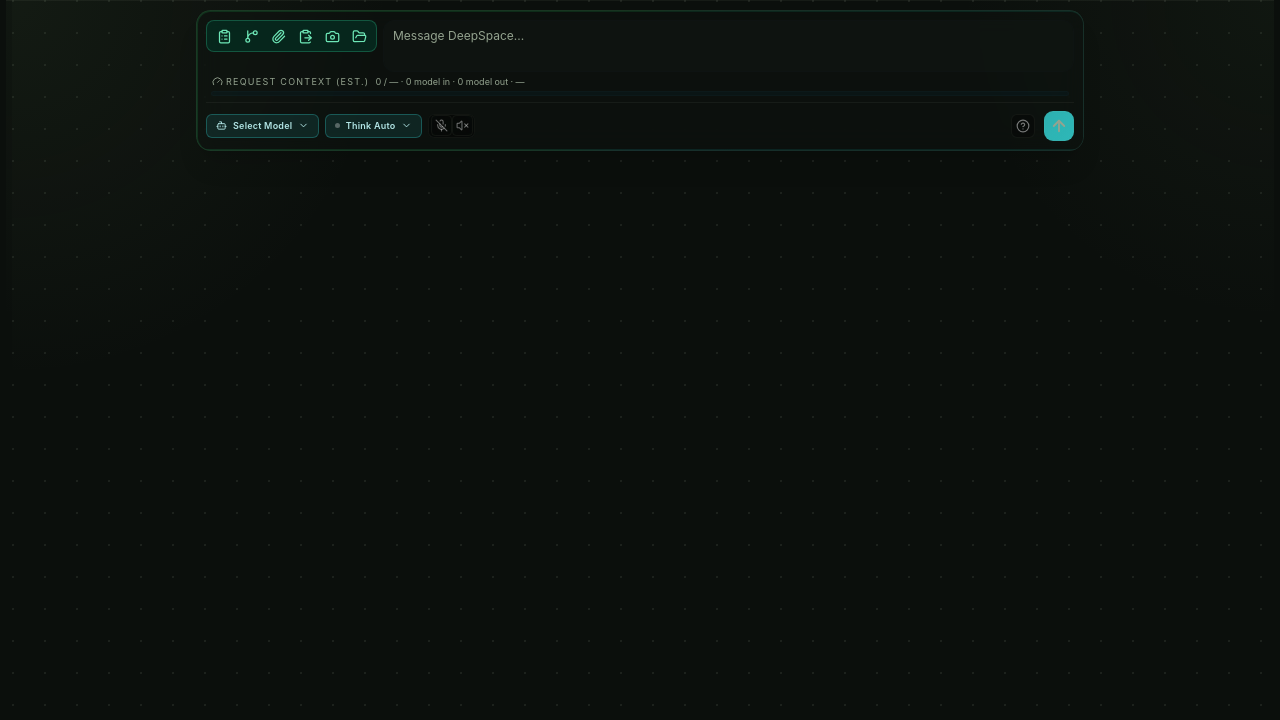
Scenario: DeepSpaceComposer clipboard button › says so when the browser refuses the clipboard
Click the button named "Paste from the clipboard".
click(305, 36)  # box [293,24,317,48]
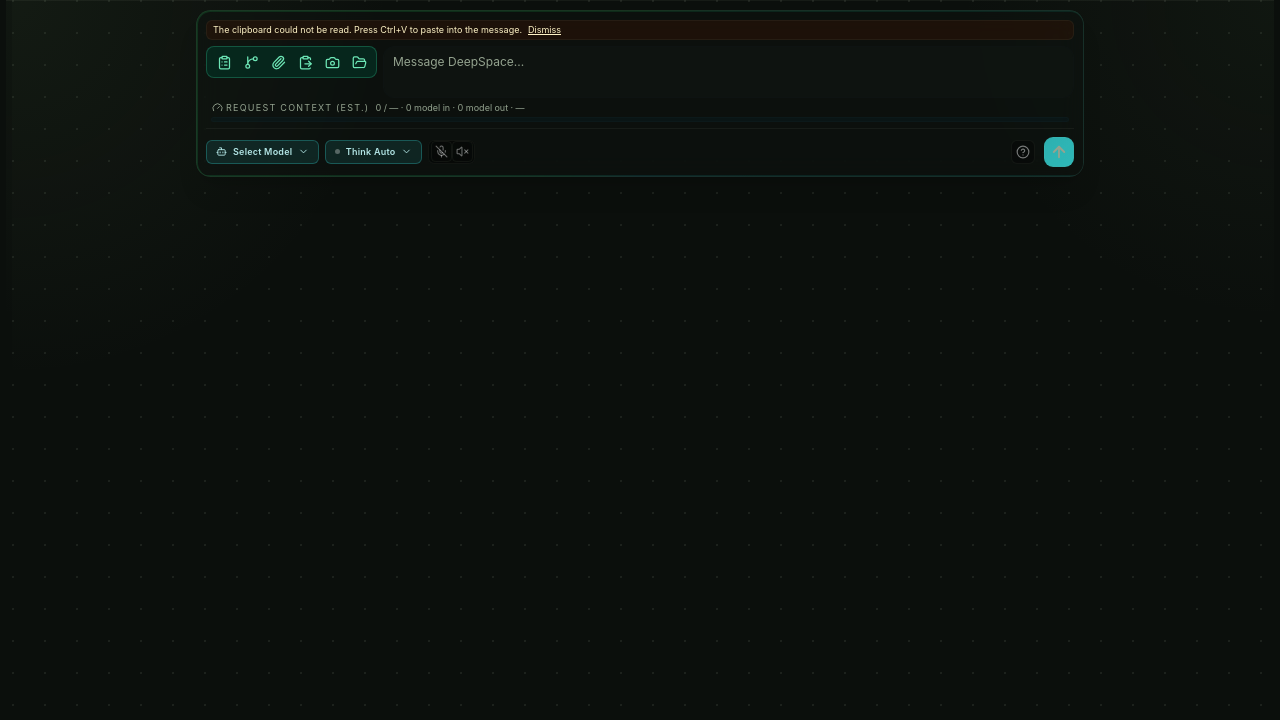
Result: the text "clipboard could not be read" is shown at [213,24,522,35]
